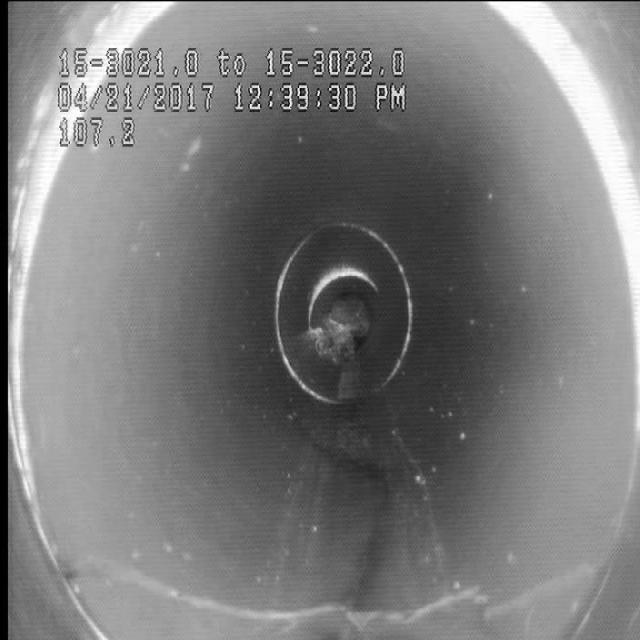Crack: (119, 520, 567, 638)
